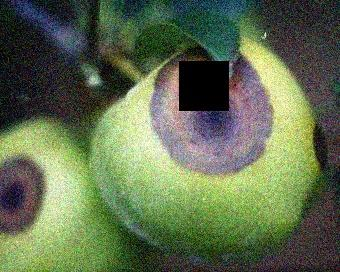rotten apple: (91, 24, 327, 262), (2, 112, 136, 272)
